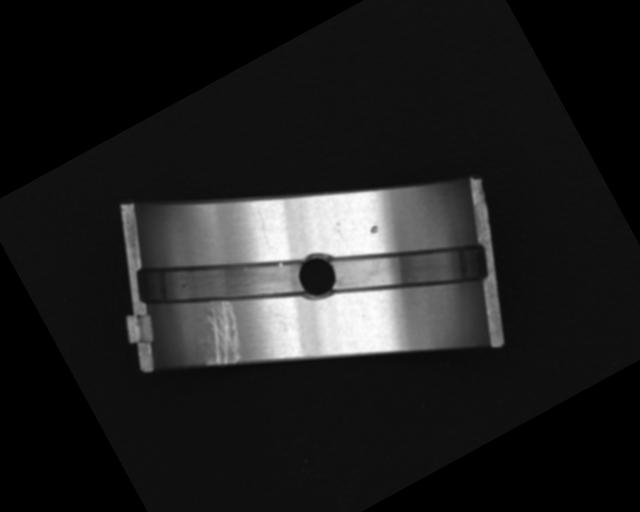bruise: (367, 222, 382, 236)
gap: (130, 200, 312, 358), (325, 199, 493, 342)
hole: (290, 248, 344, 303)
nick: (247, 204, 276, 243)
scratch: (183, 294, 257, 375)
